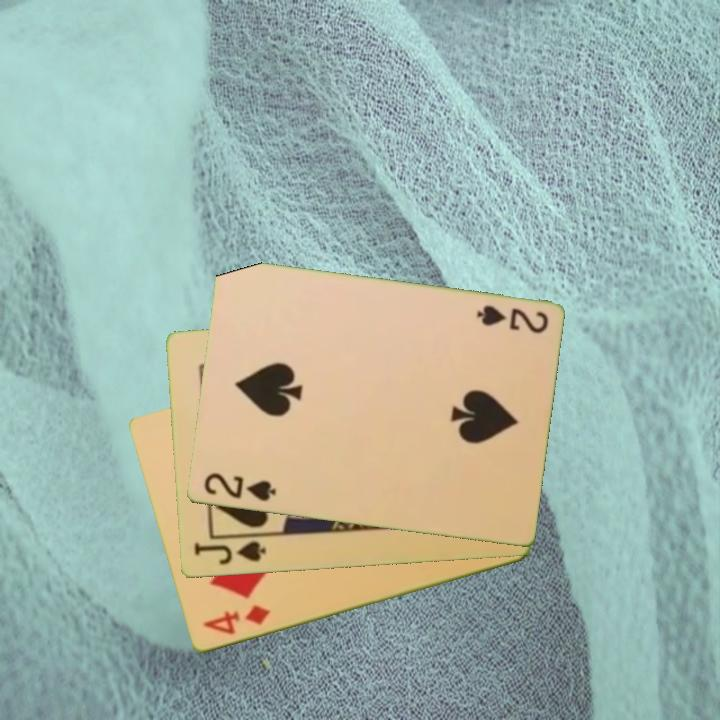2s: (200, 469, 279, 505), (472, 302, 551, 337)
4d: (199, 601, 273, 639)
Js: (190, 538, 269, 568)
